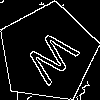W: (22, 27, 88, 94)
